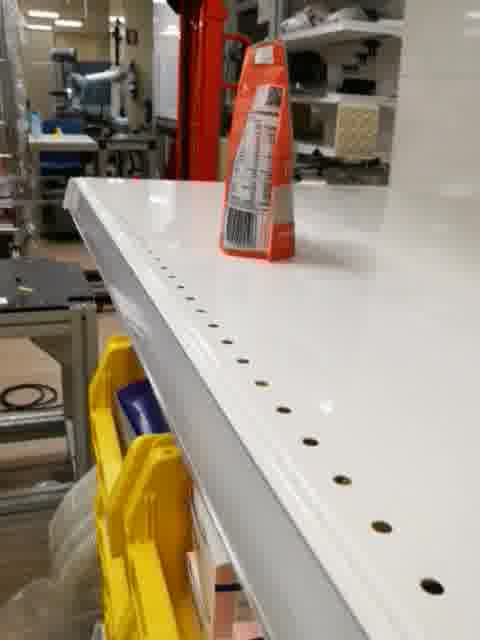whitechia: (216, 35, 299, 264)
